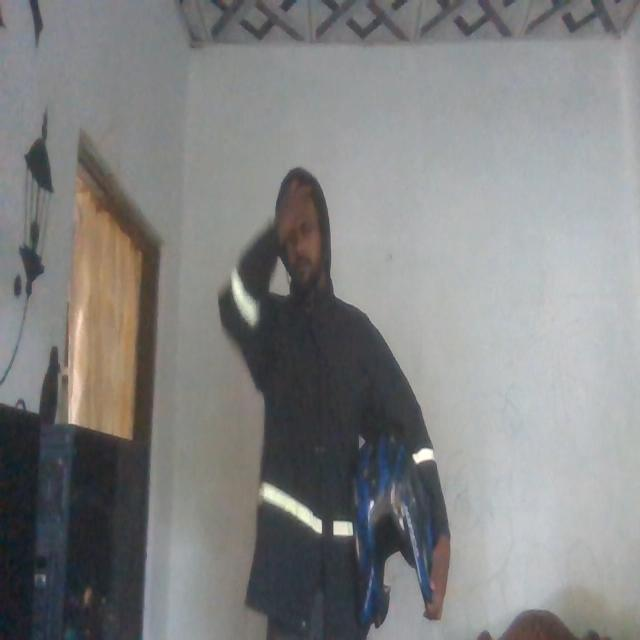Jacket_Wearer: (232, 273, 440, 631)
Person: (221, 154, 474, 640)
